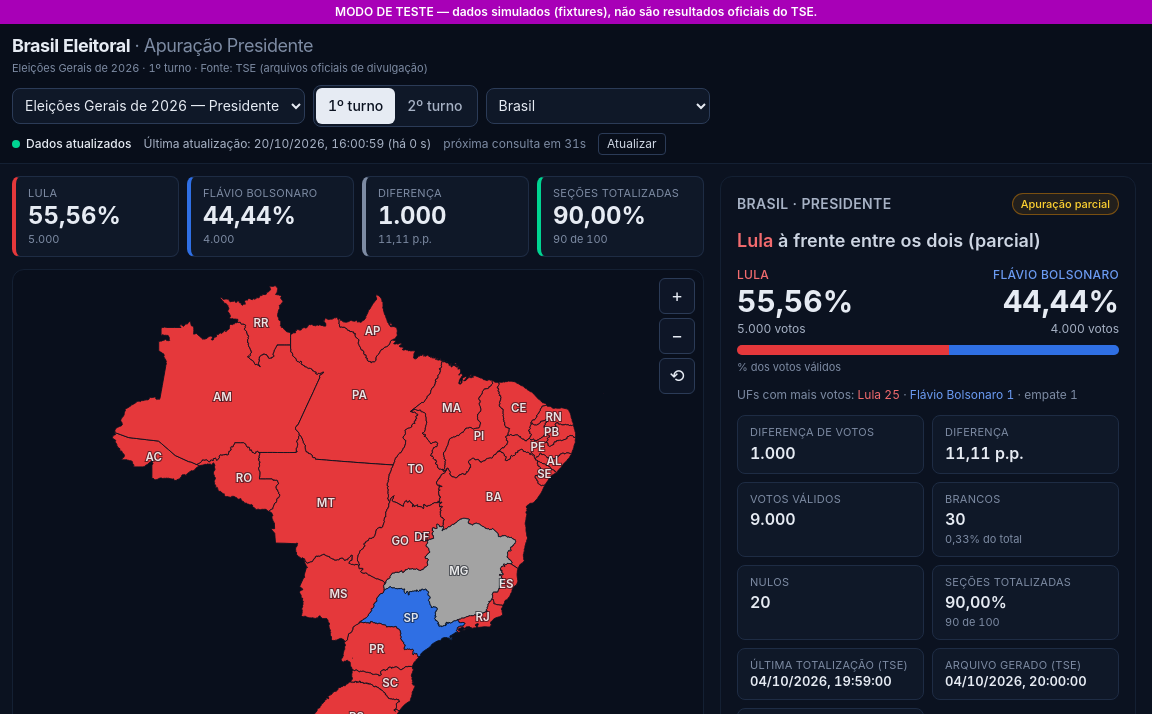
it: Dashboard › desktop (1440 px) › troca do 1º para o 2º turno descartando os dados do turno anterior
This screenshot has width=1152, height=714.
Click the radio button labelled "2º turno" at (435, 106), box [395,88,475,124]
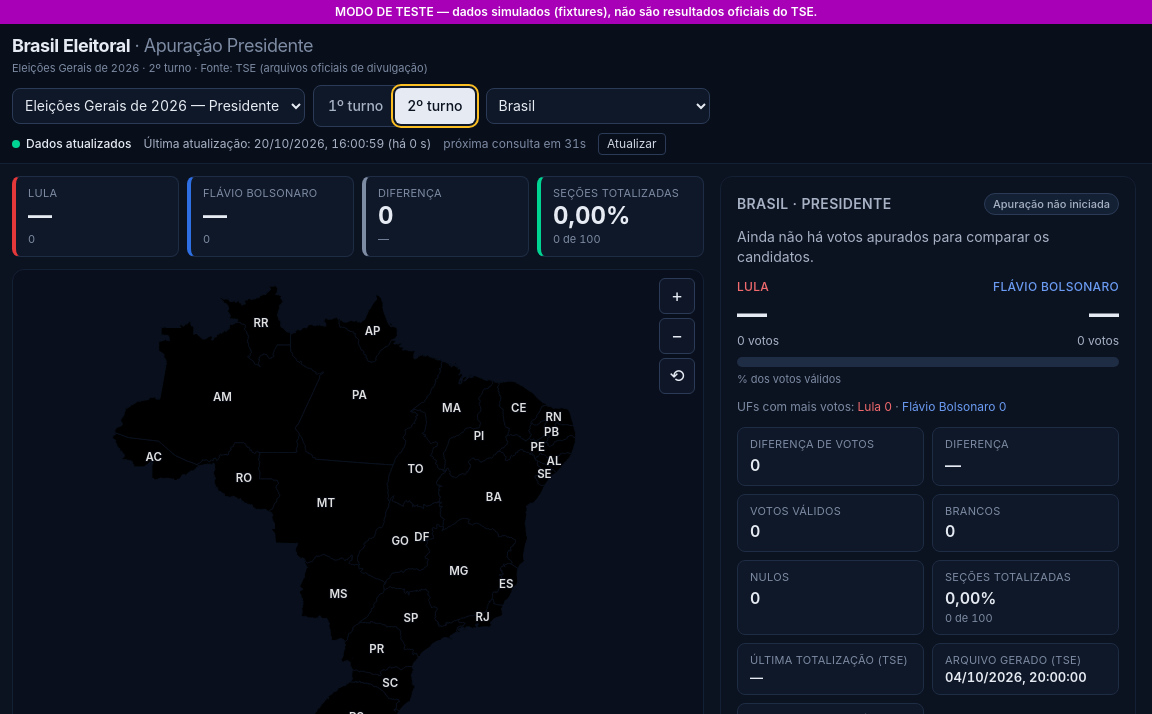
Expected: the text "Apuração não iniciada" is shown, [984,192,1119,215]
